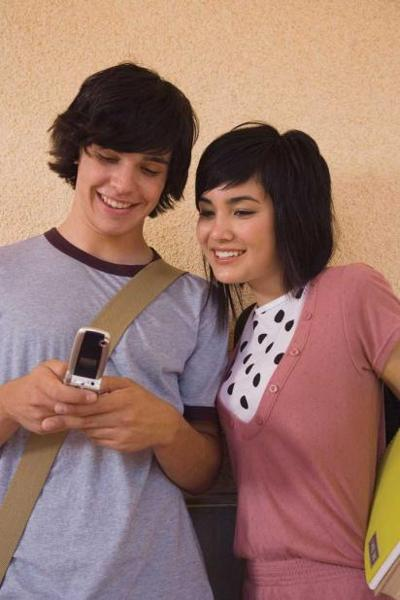person: (3, 64, 228, 600)
